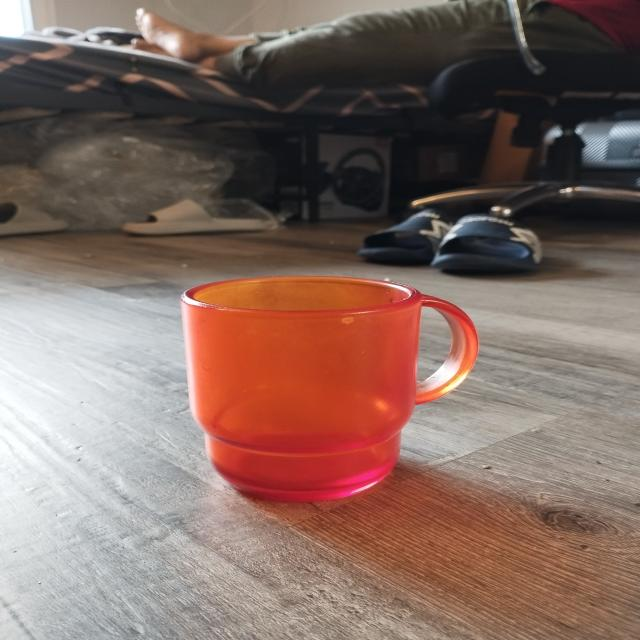Cup: (151, 255, 521, 526)
